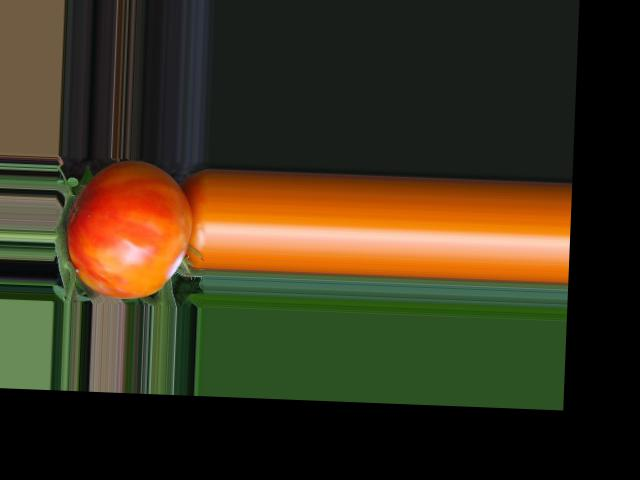tomato: (65, 158, 193, 301)
